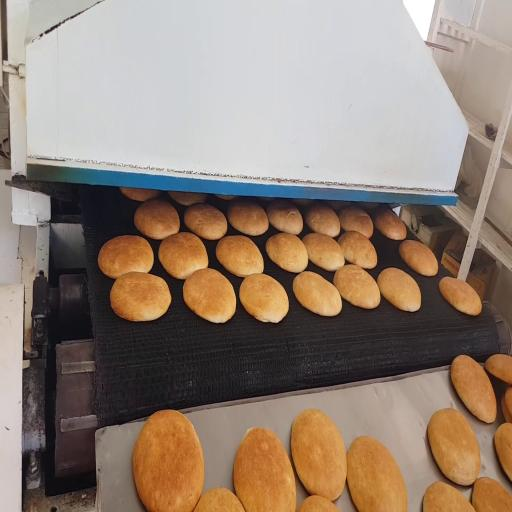bread: (133, 411, 204, 511), (234, 428, 296, 511), (291, 409, 346, 501), (347, 436, 407, 511), (428, 409, 481, 485), (451, 355, 497, 423), (110, 272, 171, 321), (183, 269, 236, 323), (239, 274, 289, 323), (98, 236, 153, 279), (159, 232, 208, 279), (293, 272, 341, 316), (334, 265, 380, 309), (216, 236, 263, 276), (378, 268, 421, 311), (134, 200, 179, 239), (266, 233, 308, 273), (439, 277, 481, 315), (303, 233, 344, 271), (184, 203, 227, 239), (338, 231, 377, 269), (423, 482, 474, 511), (228, 200, 268, 236), (399, 240, 438, 276), (472, 477, 511, 511), (267, 200, 303, 235), (305, 203, 340, 237), (195, 488, 244, 511), (339, 207, 373, 238), (374, 209, 406, 240), (494, 423, 511, 481), (486, 354, 511, 384), (297, 496, 339, 511), (120, 187, 160, 201), (168, 192, 207, 206), (502, 387, 511, 422), (501, 392, 511, 423), (326, 201, 350, 211), (358, 202, 379, 210), (293, 199, 311, 206), (216, 195, 235, 200), (258, 197, 275, 202)
